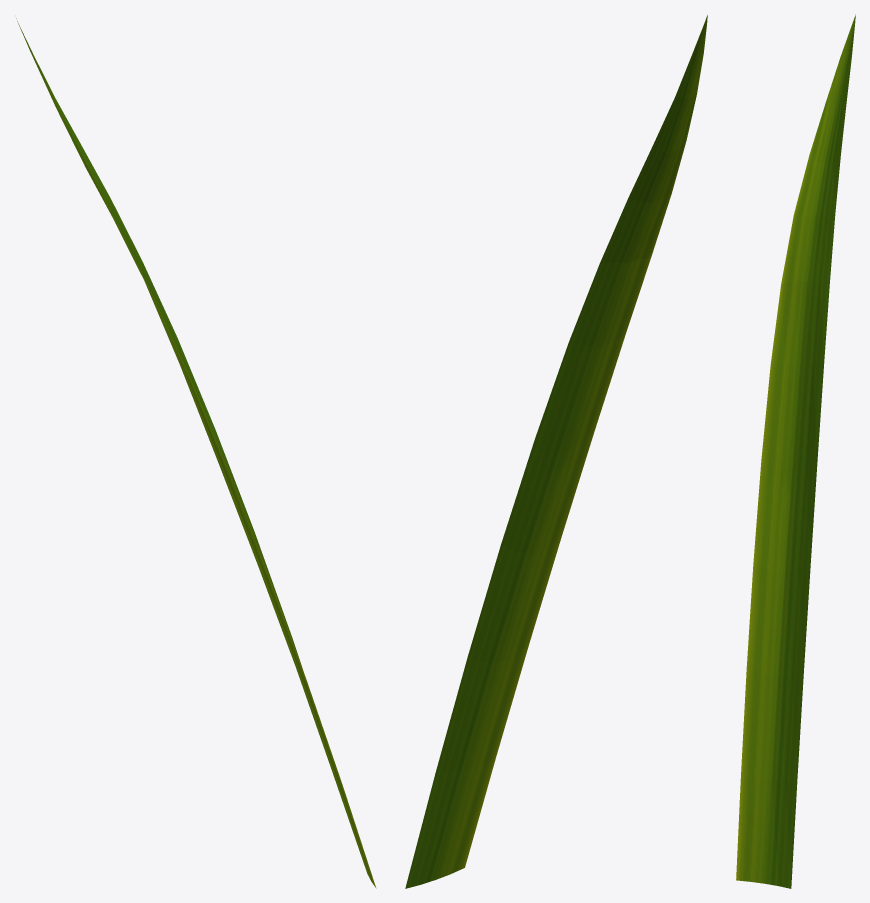
Rendered from medium_1.obj.
3 views of the same model, side by side, from view 1: azimuth 30°, elevation 25°; view 2: azimuth 150°, elevation 25°; view 3: azimuth 270°, elevation 25° (orthographic). The views are drawn at different scales.
Parts seen in each view (by area): view 1: Grass_20.003; view 2: Grass_20.003; view 3: Grass_20.003.
Part boxes in pixels (x1,y1,x2,y2): Grass_20.003: [16, 18, 376, 888]; Grass_20.003: [405, 15, 707, 888]; Grass_20.003: [736, 14, 855, 888].
Size of the model in its own units: 0.3433 by 0.9409 by 0.1366.
Materials: 1 (1 with a texture image).
